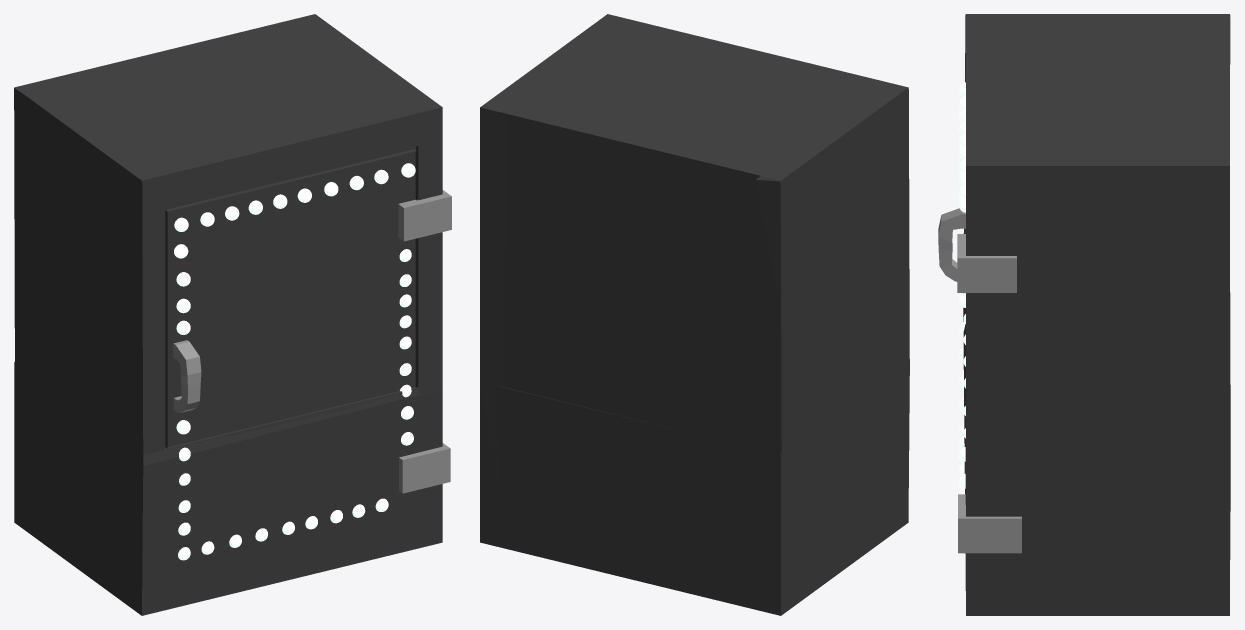
The model's file is safe.fbx.
3 views of the same model, side by side, from view 1: azimuth 30°, elevation 25°; view 2: azimuth 150°, elevation 25°; view 3: azimuth 270°, elevation 25° (orthographic). The views are drawn at different scales.
Parts seen in each view (by area): view 1: Cube, Sphere.036; view 2: Cube; view 3: Cube, Sphere.036.
Part boxes in pixels (x1,y1,x2,y2): Cube: [14, 14, 442, 615]; Sphere.036: [165, 151, 451, 560]; Cube: [480, 14, 909, 615]; Cube: [963, 14, 1230, 615]; Sphere.036: [938, 82, 1021, 553].
Size of the model in its own units: 277 by 377 by 222.
